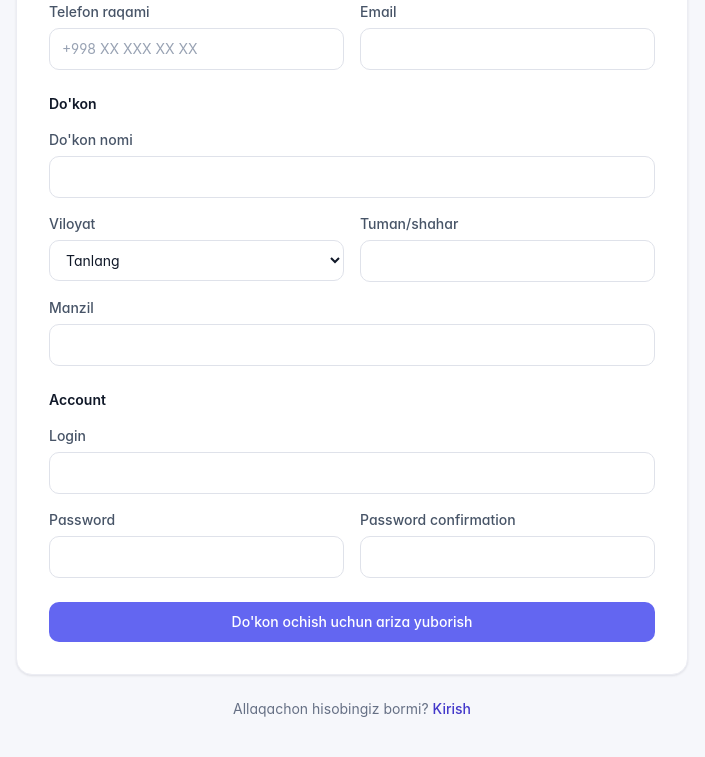
Test case: RegisterStorePage › blocks submit when required fields are empty
(page scrolled)
Click the button "Do'kon ochish uchun ariza yuborish": (352,622) left=49, top=602, right=655, bottom=642
(page scrolled)
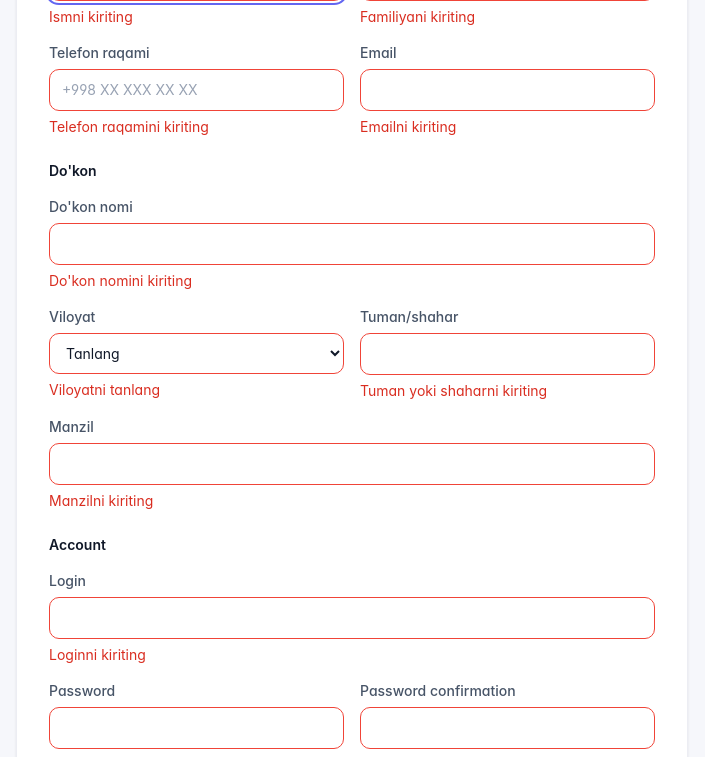
Expected: the text "Ismni kiriting" is shown, left=49, top=8, right=133, bottom=25
Expected: the text "Familiyani kiriting" is shown, left=360, top=8, right=475, bottom=25
